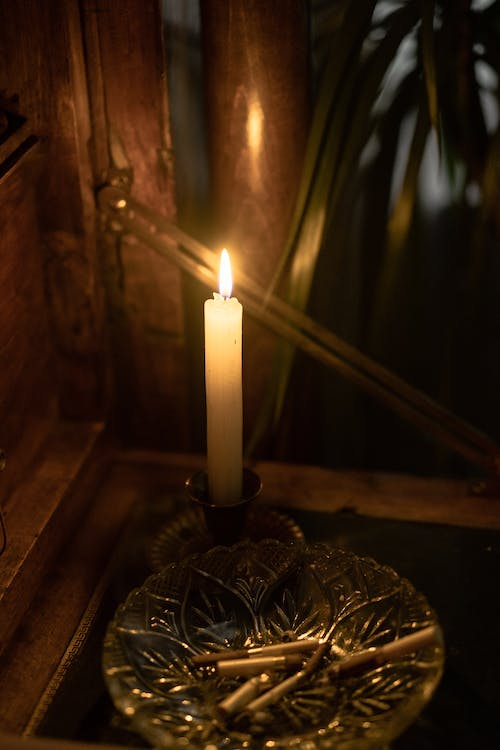cigarette: (320, 624, 443, 683), (242, 638, 333, 716), (177, 634, 324, 666), (216, 671, 274, 716), (218, 655, 304, 671)
